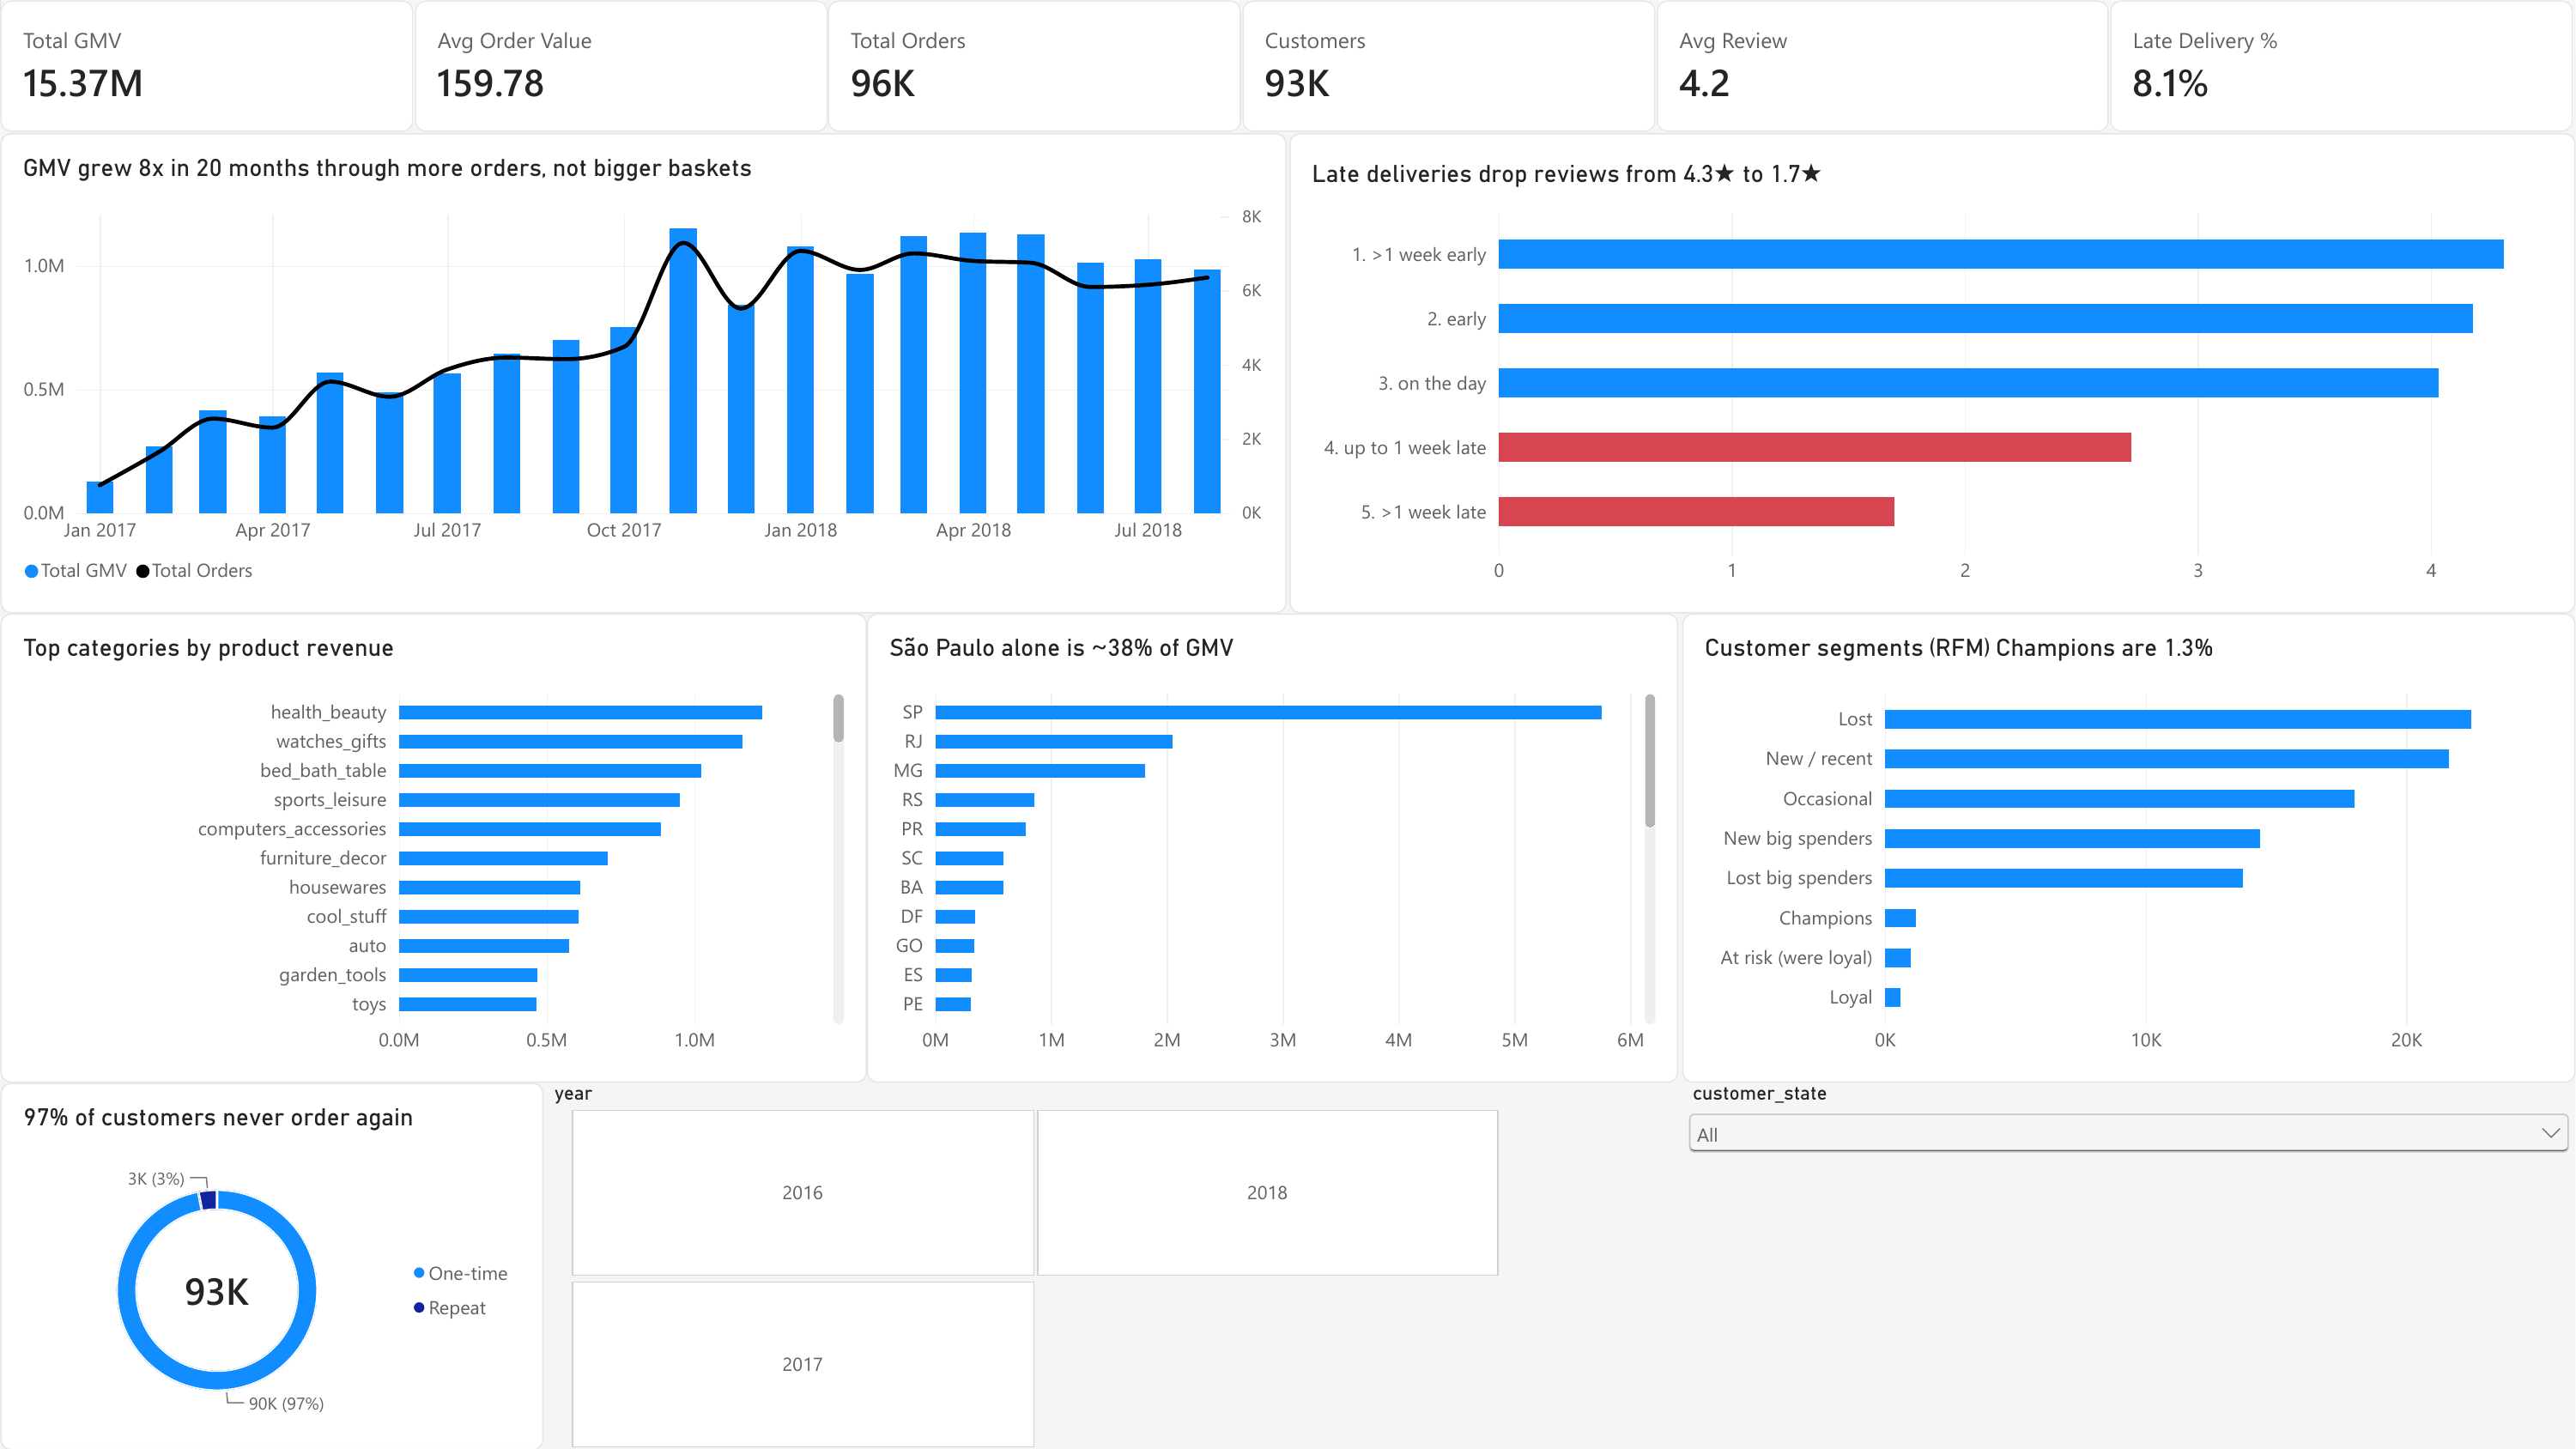

This screenshot's page, from the dashboard's own definition file:
{"tool":"powerbi","page":{"name":"Executive overview","canvas":[1920,1080],"ordinal":0},"visuals":[{"type":"cardVisual","fields":{"Data":["_measures.Total Orders"]},"box":[617.5,0,308.7,98.8],"z":0},{"type":"cardVisual","fields":{"Data":["_measures.Total GMV"]},"box":[0,0,308.7,98.8],"z":1},{"type":"cardVisual","fields":{"Data":["_measures.Customers"]},"box":[926.2,0,308.7,98.8],"z":2},{"type":"cardVisual","fields":{"Data":["_measures.Avg Order Value"]},"box":[308.7,0,308.7,98.8],"z":3},{"type":"cardVisual","fields":{"Data":["_measures.Avg Review"]},"box":[1235,0,337.6,98.8],"z":4},{"type":"cardVisual","fields":{"Data":["_measures.Late Delivery %"]},"box":[1572.6,0,345.8,98.8],"z":5},{"type":"lineClusteredColumnComboChart","title":"GMV grew 8x in 20 months through more orders, not bigger baskets","fields":{"Category":["dw dim_date.month_start"],"Y":["_measures.Total GMV"],"Y2":["_measures.Total Orders"]},"box":[0,98.8,959.2,358.1],"z":6},{"type":"clusteredBarChart","title":"Late deliveries drop reviews from 4.3★ to 1.7★","fields":{"Category":["dw fact_orders.delivery_bucket"],"Y":["_measures.Avg Review"]},"box":[961.2,98.8,959.2,358.1],"z":7},{"type":"barChart","title":"Top categories by product revenue","fields":{"Category":["dw dim_product.category"],"Y":["_measures.Product Revenue"]},"box":[0,456.9,646.3,349.9],"z":8},{"type":"barChart","title":"São Paulo alone is ~38% of GMV","fields":{"Category":["dw dim_customer.customer_state"],"Y":["_measures.Total GMV"]},"box":[646.3,456.9,605.1,349.9],"z":9},{"type":"barChart","title":"Customer segments (RFM) Champions are 1.3%","fields":{"Category":["dw dim_customer.rfm_segment"],"Y":["_measures.Customers"]},"box":[1253.5,456.9,666.9,349.9],"z":10},{"type":"donutChart","title":"97% of customers never order again","fields":{"Category":["dw dim_customer.customer_type"],"Y":["_measures.Customers"]},"box":[0,806.9,405.5,273.8],"z":11},{"type":"slicer","fields":{"Values":["dw dim_date.year"]},"box":[405,806,730.7,273.8],"z":12},{"type":"slicer","fields":{"Values":["dw dim_customer.customer_state"]},"box":[1254,807,666,273],"z":13}]}

Visuals, with their boxes in screenshot pixels (x1, y1, x2, y2), scaled from the page's 1920x1080 canvas onto the 2576x1449 screenshot:
cardVisual - _measures.Total Orders: 828 0 1243 132
cardVisual - _measures.Total GMV: 0 0 415 132
cardVisual - _measures.Customers: 1243 0 1657 132
cardVisual - _measures.Avg Order Value: 415 0 828 132
cardVisual - _measures.Avg Review: 1657 0 2110 132
cardVisual - _measures.Late Delivery %: 2110 0 2573 132
"GMV grew 8x in 20 months through more orders, not bigger baskets" lineClusteredColumnComboChart: 0 132 1287 613
"Late deliveries drop reviews from 4.3★ to 1.7★" clusteredBarChart: 1289 132 2575 613
"Top categories by product revenue" barChart: 0 613 867 1082
"São Paulo alone is ~38% of GMV" barChart: 867 613 1679 1082
"Customer segments (RFM) Champions are 1.3%" barChart: 1682 613 2575 1082
"97% of customers never order again" donutChart: 0 1082 544 1448
slicer - dw dim_date.year: 543 1082 1524 1448
slicer - dw dim_customer.customer_state: 1682 1082 2575 1448
